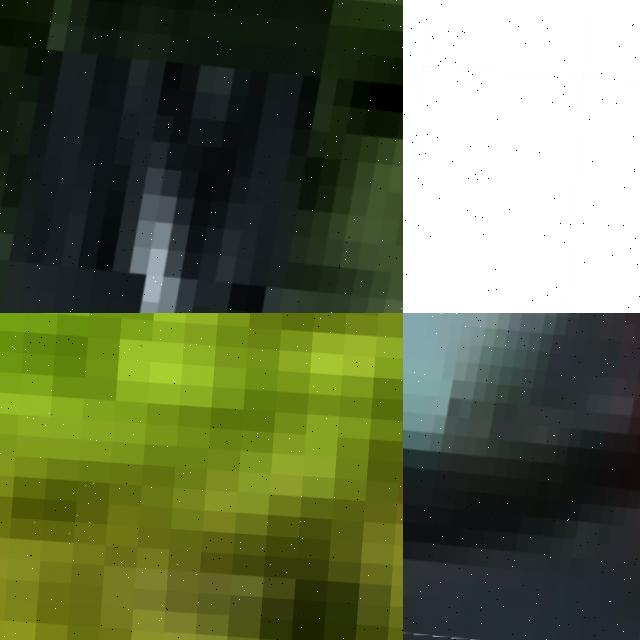0: (0, 0, 403, 313)
drone: (403, 313, 640, 640)
